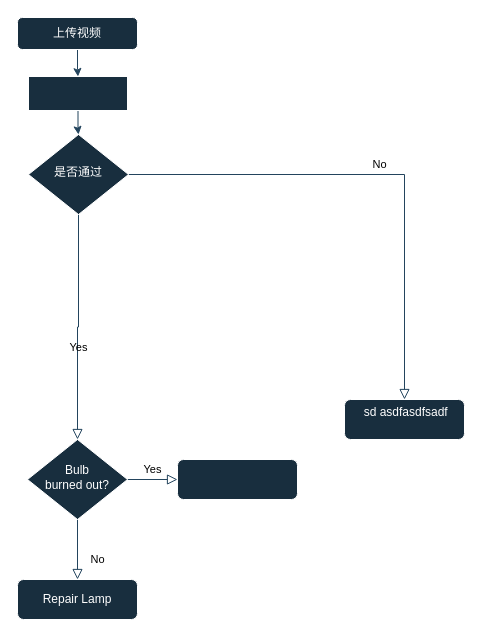
This 482x637 diagram has some shape labels left out. The centre of each missing label's shape, as x and y in pixels:
"Replace Bulb" belongs at point (237, 479).
"系统初审" belongs at point (78, 93).
